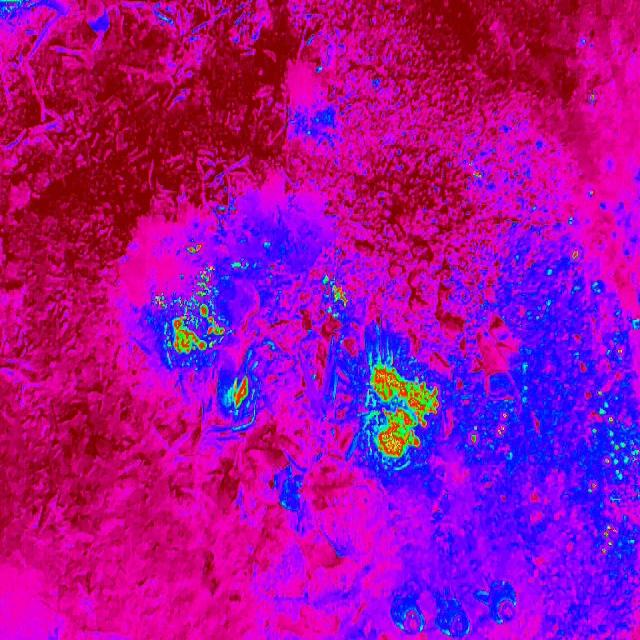fire: (580, 330, 640, 566), (364, 358, 439, 462), (154, 266, 227, 353), (466, 406, 509, 446), (322, 275, 351, 317), (226, 376, 252, 410), (566, 246, 585, 268), (182, 241, 204, 258)
